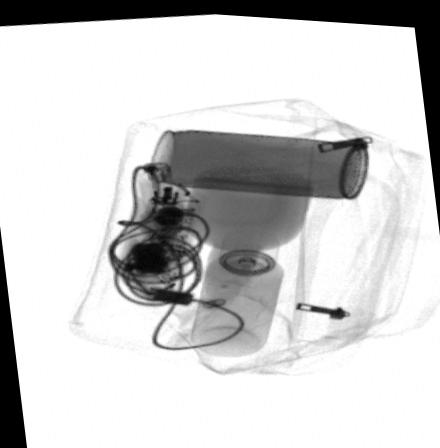Lighter: (138, 155, 185, 226)
Sprayer: (188, 216, 285, 354)
